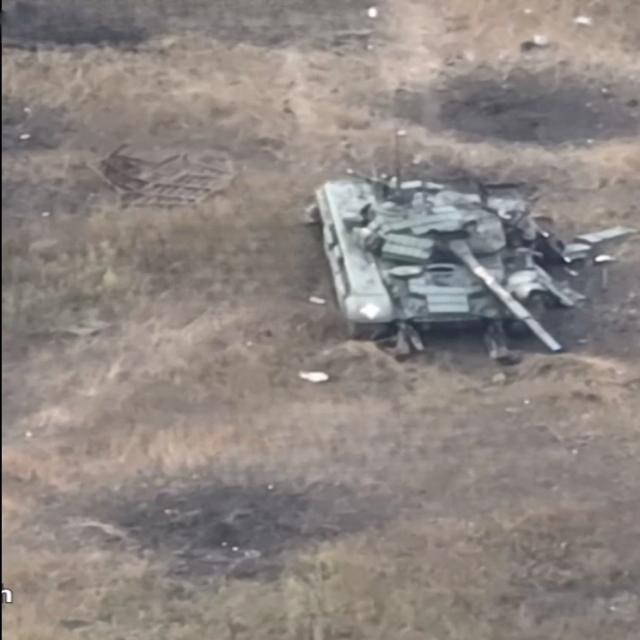MBT: (312, 167, 565, 359)
